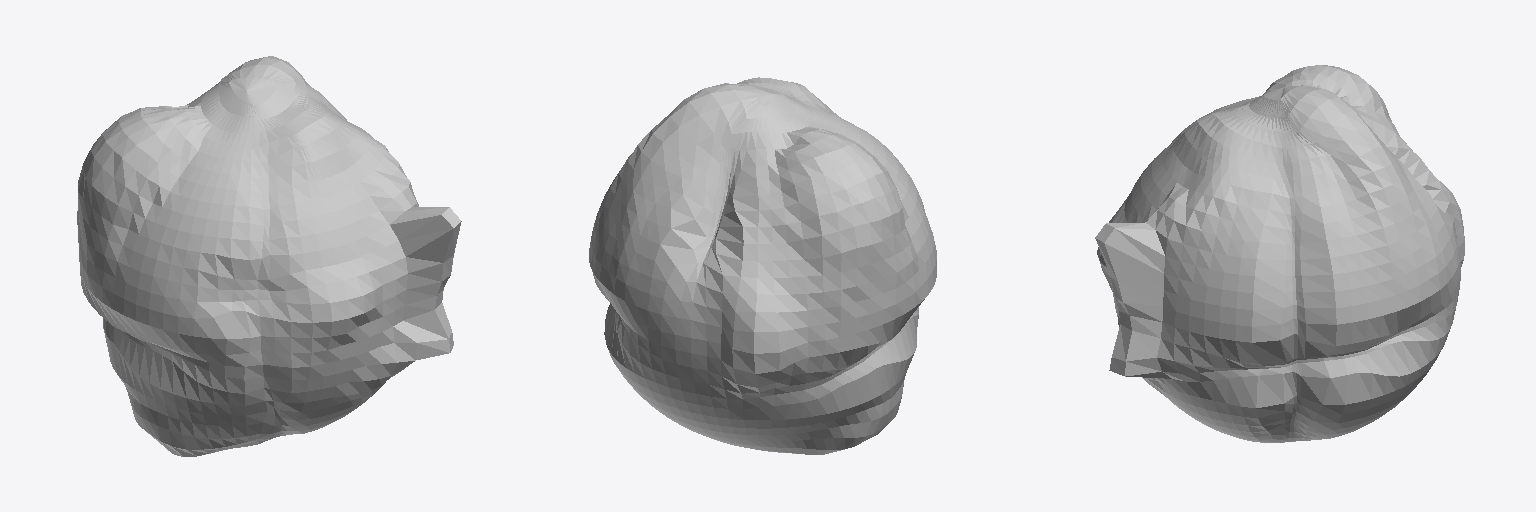
The model's file is comet.obj.
3 views of the same model, side by side, from view 1: azimuth 30°, elevation 25°; view 2: azimuth 150°, elevation 25°; view 3: azimuth 270°, elevation 25° (orthographic).
Parts seen in each view (by area): view 1: Sphere; view 2: Sphere; view 3: Sphere.
Boxes of the visible parts, x1,y1,x2,y2 form: Sphere: [77, 56, 461, 456]; Sphere: [589, 77, 936, 454]; Sphere: [1095, 65, 1464, 442].
Bounding box in the file's own units: 1.99 × 2.2 × 2.11.